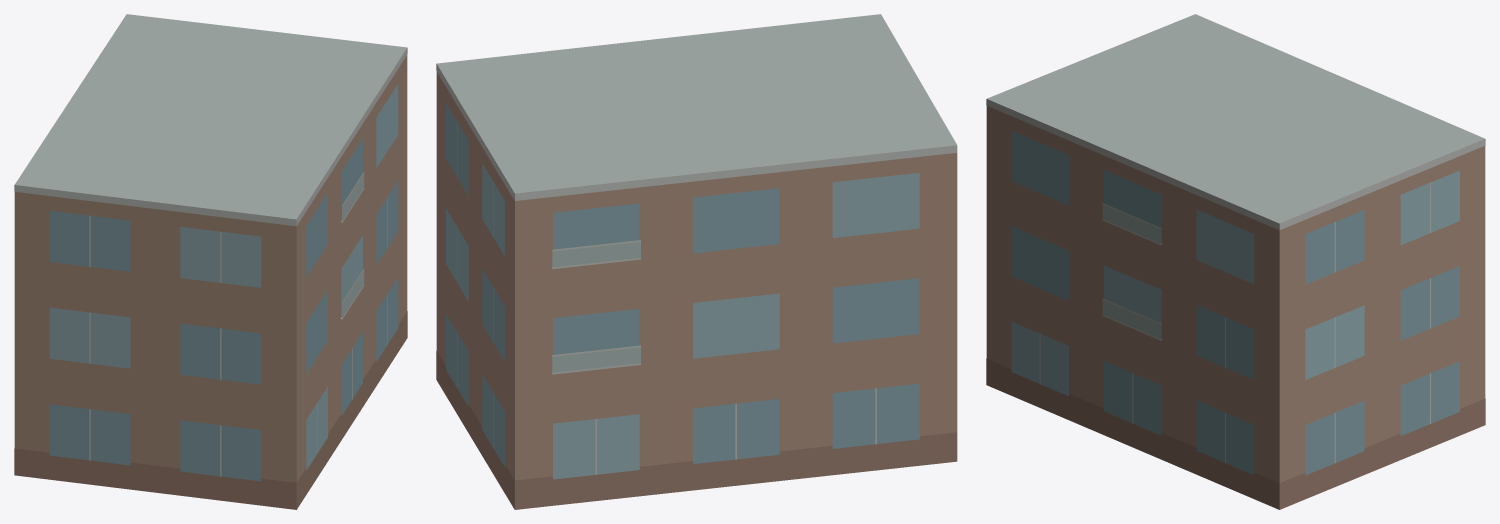
Rendered from survey-upis-32597799.glb.
3 views of the same model, side by side, from view 1: azimuth 30°, elevation 25°; view 2: azimuth 150°, elevation 25°; view 3: azimuth 270°, elevation 25° (orthographic). The views are drawn at different scales.
Visible parts, largest first — view 1: survey-upis-32597799.tmp; view 2: survey-upis-32597799.tmp; view 3: survey-upis-32597799.tmp.
Part boxes in pixels (x1,y1,x2,y2): survey-upis-32597799.tmp: [14, 14, 407, 509]; survey-upis-32597799.tmp: [436, 14, 957, 509]; survey-upis-32597799.tmp: [986, 14, 1485, 509].
Bounding box in the file's own units: 16.34 × 10.4 × 16.44.
